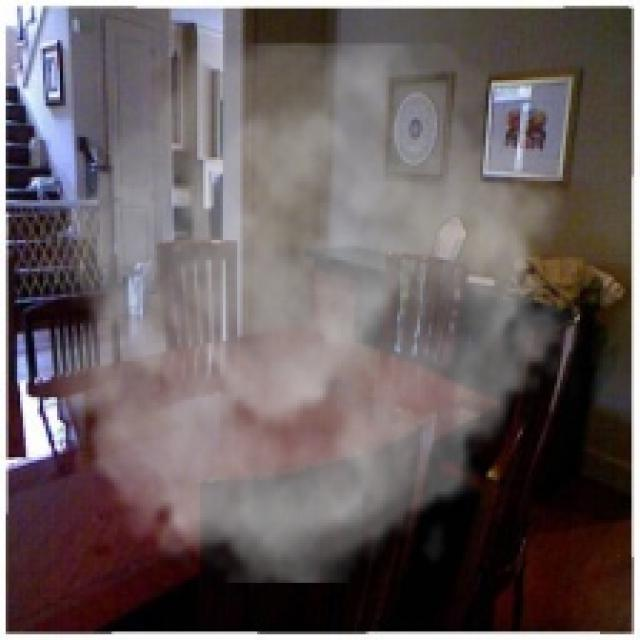Smoke: (28, 43, 583, 583)
